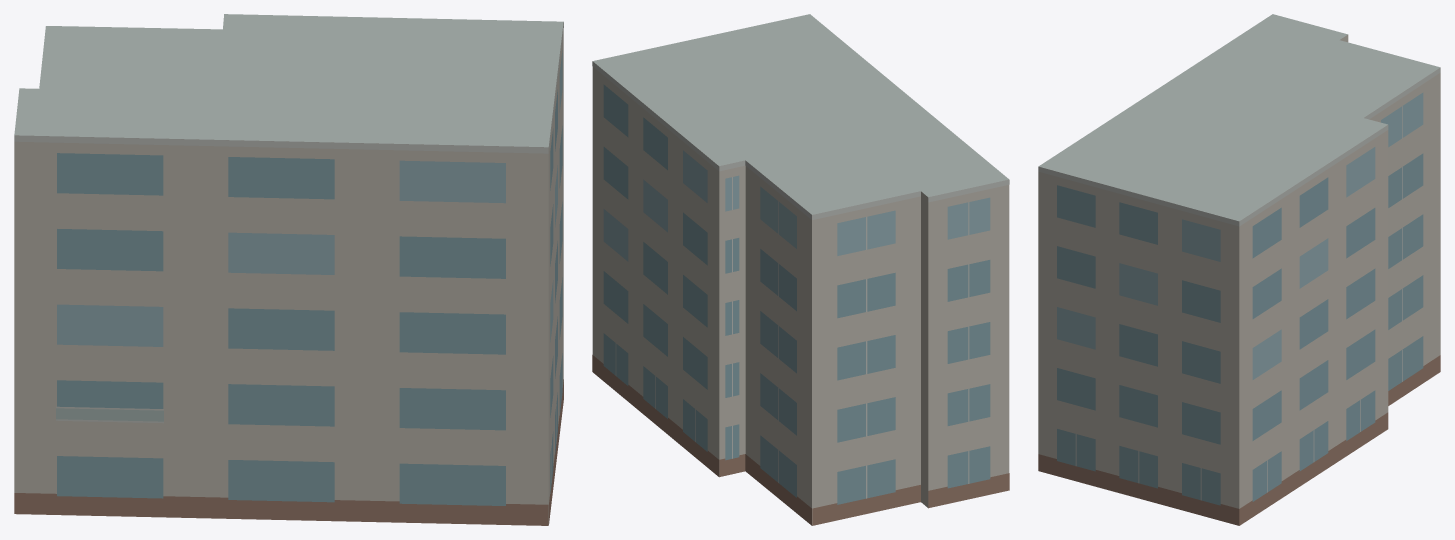
Rendered from survey-upis-32725669.glb.
3 renders of one model, left to right at view 1: azimuth 30°, elevation 25°; view 2: azimuth 150°, elevation 25°; view 3: azimuth 270°, elevation 25°, orthographic. The views are drawn at different scales.
Parts seen in each view (by area): view 1: survey-upis-32725669.tmp; view 2: survey-upis-32725669.tmp; view 3: survey-upis-32725669.tmp.
Part boxes in pixels (x1=…): survey-upis-32725669.tmp: x1=14, y1=14, x2=563, y2=525; survey-upis-32725669.tmp: x1=592, y1=14, x2=1009, y2=525; survey-upis-32725669.tmp: x1=1038, y1=14, x2=1440, y2=525.
Bounding box in the file's own units: 21.19 × 14.5 × 17.37.
